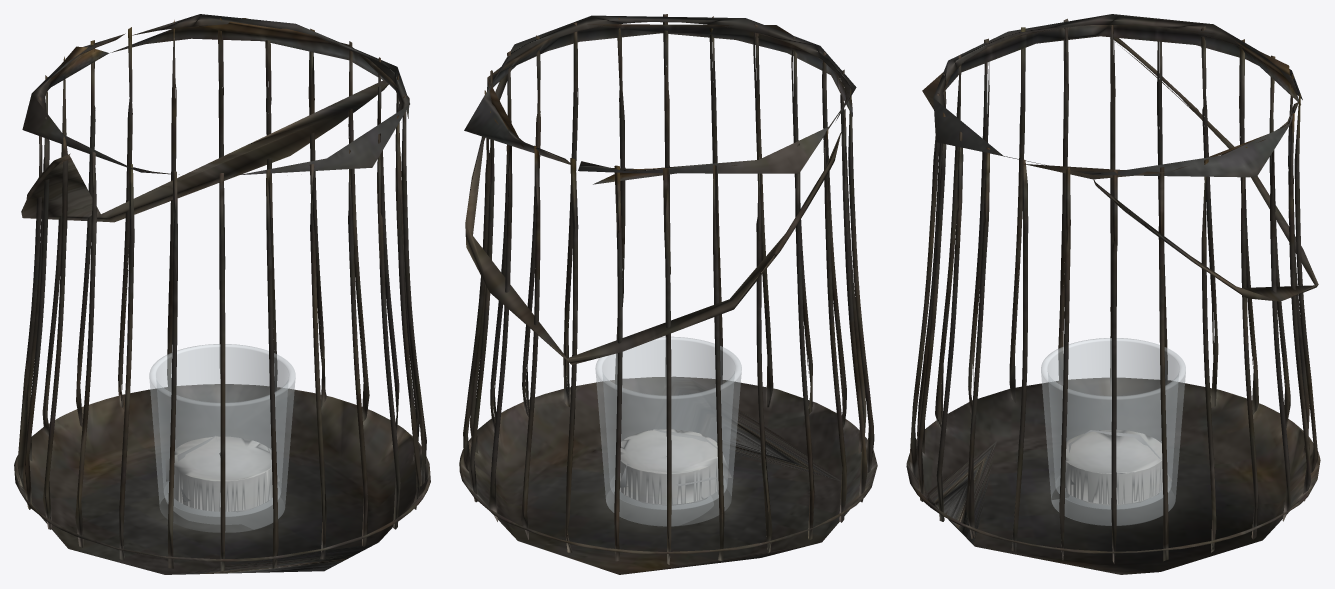
The model's file is decor_candleholder_a01.glb.
The picture shows the model from 3 angles, left to right: view 1: azimuth 30°, elevation 25°; view 2: azimuth 150°, elevation 25°; view 3: azimuth 270°, elevation 25°; orthographic projection.
Parts seen in each view (by area): view 1: sm_decor_candleholder_a01_01; view 2: sm_decor_candleholder_a01_01; view 3: sm_decor_candleholder_a01_01.
Part boxes in pixels (left/top/right/bottom): sm_decor_candleholder_a01_01: left=14, top=14, right=430, bottom=574; sm_decor_candleholder_a01_01: left=459, top=14, right=877, bottom=574; sm_decor_candleholder_a01_01: left=906, top=14, right=1320, bottom=574.
Size of the model in its own units: 0.149 by 0.1648 by 0.1491.
Materials: 4 (3 with a texture image).
